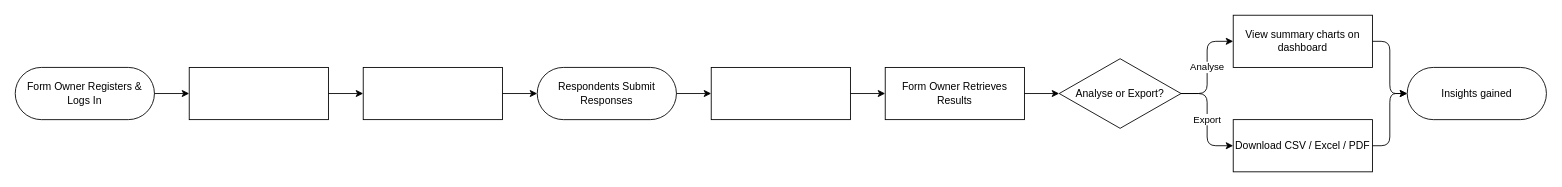
Image size: 1562x187. Some labels were removed from this diagram. The shapes that lost their labels are listed below. From the top down, each one's centre as x and y in pixels, then its label:
At (x=258, y=93): "Creates Form".
At (x=432, y=93): "Publishes Form".
At (x=780, y=93): "Responses stored in system".
